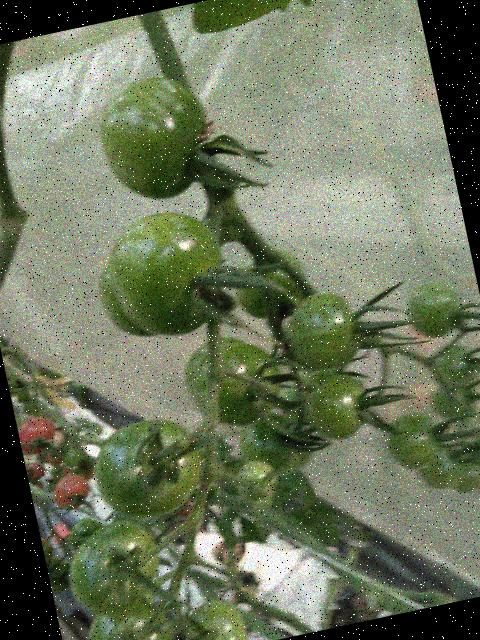l_fully_ripened: (16, 413, 58, 456)
l_green: (98, 200, 237, 347), (89, 66, 221, 210), (85, 410, 212, 528), (59, 513, 168, 623), (185, 333, 289, 435), (278, 286, 363, 376), (229, 240, 313, 327), (92, 256, 160, 346), (300, 369, 376, 446), (233, 408, 305, 484), (80, 593, 174, 640), (403, 276, 466, 344), (380, 408, 442, 475), (179, 592, 249, 640), (413, 439, 465, 495), (231, 455, 282, 505), (426, 340, 478, 389), (68, 514, 106, 551)
l_half_ripened: (51, 470, 93, 513), (40, 533, 57, 568)
